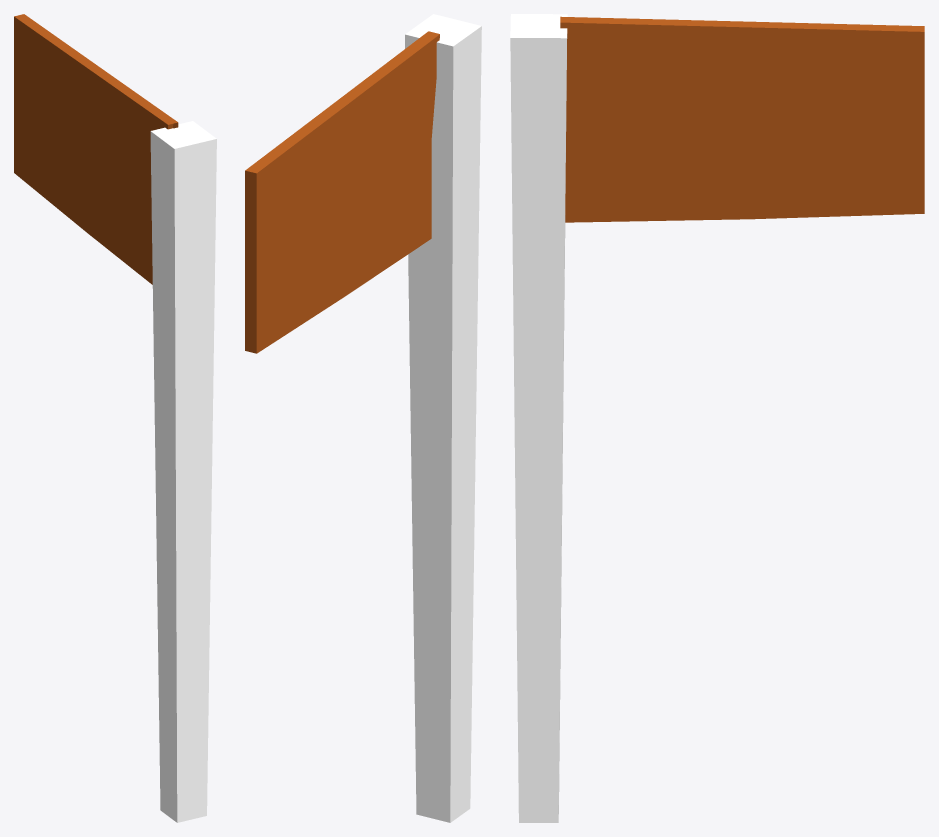
Rendered from flag_orange.gltf.
3 renders of one model, left to right at view 1: azimuth 30°, elevation 25°; view 2: azimuth 150°, elevation 25°; view 3: azimuth 270°, elevation 25°, orthographic. The views are drawn at different scales.
Visible parts, largest first — view 1: Cube.001; view 2: Cube.001; view 3: Cube.001.
Boxes of the visible parts, x1,y1,x2,y2 form: Cube.001: (14,14,216,822); Cube.001: (245,14,481,822); Cube.001: (510,14,924,822).
Size of the model in its own units: 0.0502 by 0.7691 by 0.3637.
